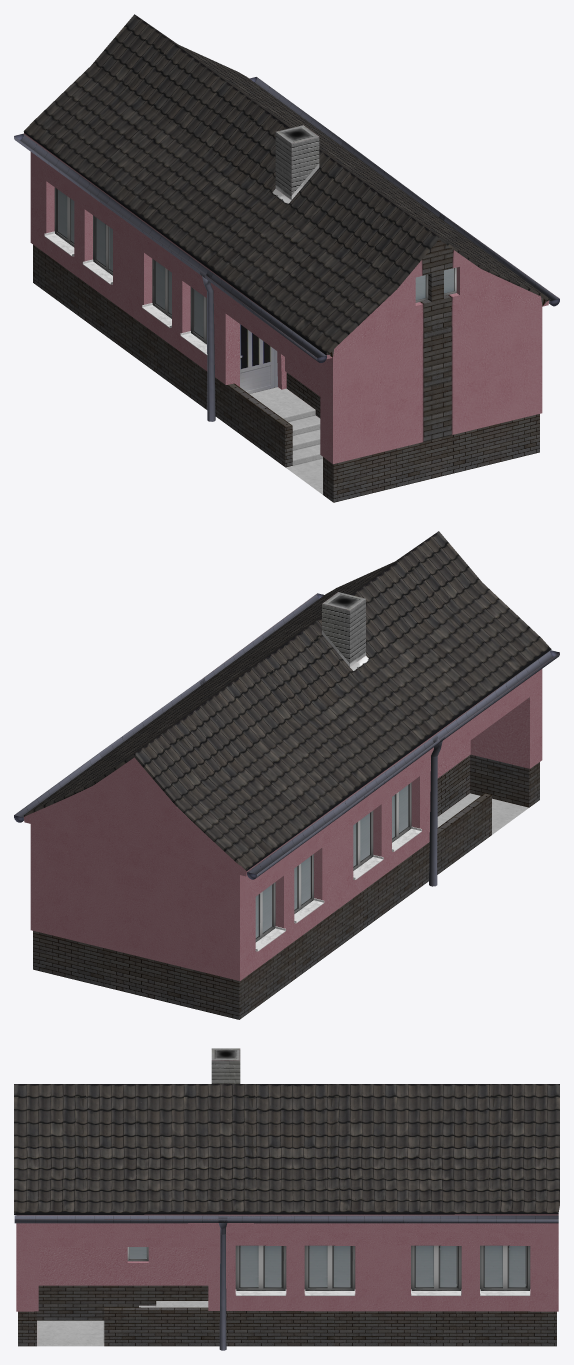
File: le-mans-house-v1.glb
3 views of the same model, one above another, from view 1: azimuth 30°, elevation 25°; view 2: azimuth 150°, elevation 25°; view 3: azimuth 270°, elevation 25° (orthographic). The views are drawn at different scales.
Parts seen in each view (by area): view 1: European House #3-material0-lod0, European House #3-material1-lod0; view 2: European House #3-material0-lod0, European House #3-material1-lod0; view 3: European House #3-material0-lod0, European House #3-material1-lod0.
Boxes of the visible parts, box(x1,y1,x2,y2) form: European House #3-material0-lod0: box(14, 14, 559, 502); European House #3-material1-lod0: box(54, 187, 456, 393); European House #3-material0-lod0: box(14, 531, 559, 1019); European House #3-material1-lod0: box(255, 782, 411, 951); European House #3-material0-lod0: box(14, 1048, 559, 1350); European House #3-material1-lod0: box(127, 1245, 530, 1294).
Size of what is drawn, in the model's own units: 0.9617 by 1 by 2.09.
2 materials, 2 textured.
